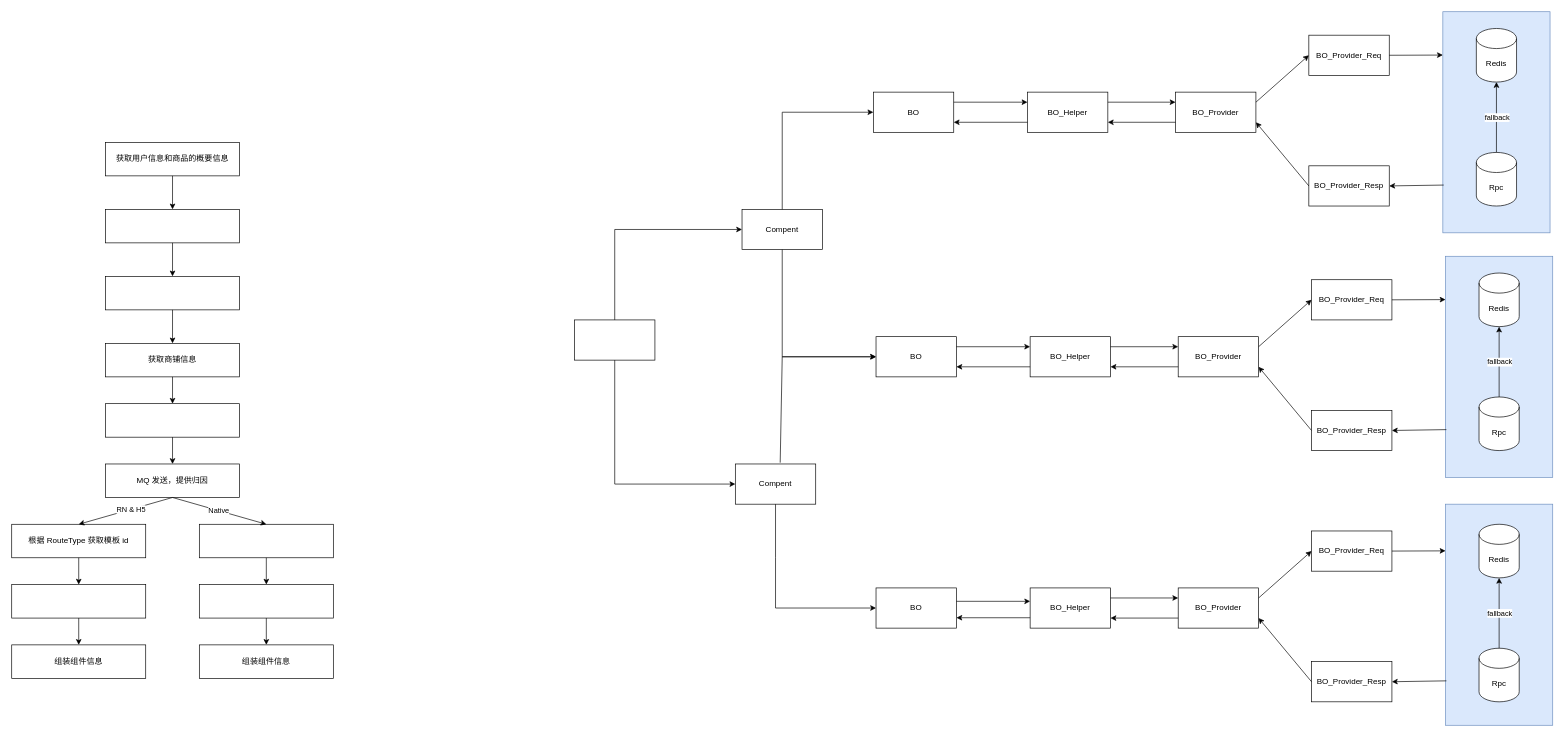
Some shapes in this 1564 by 737 pixel diagram are drawn without their labels. Each missing label, with the centre of its shape:
"Item template" belongs at point 614,339.
"根据 RouteType 获取卡片名称" belongs at point 266,541.
"根据模板 id 获取卡片下所有 组件的细信息" belongs at point 266,601.
"根据模板 id 获取模板下所有 组件的细信息" belongs at point 78,601.
"相关场景补充" belongs at point 172,420.
"获取与 sku id 相同 item id 的其他 sku" belongs at point 172,226.
"过滤其中冻结的商品" belongs at point 172,293.
